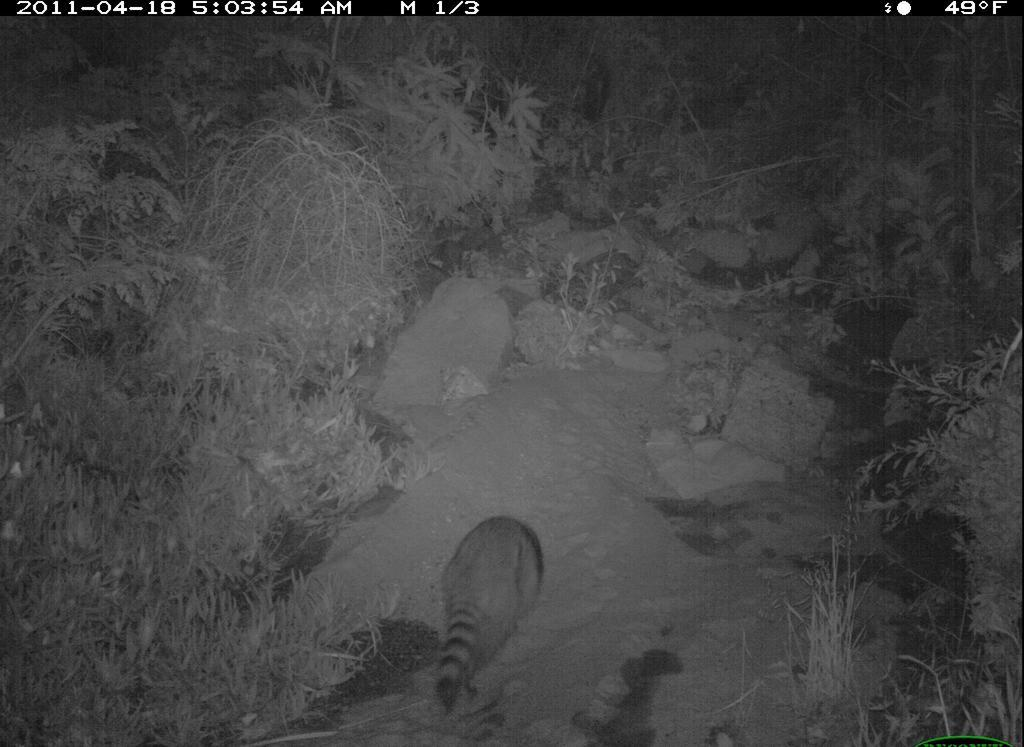raccoon: (425, 506, 551, 717)
